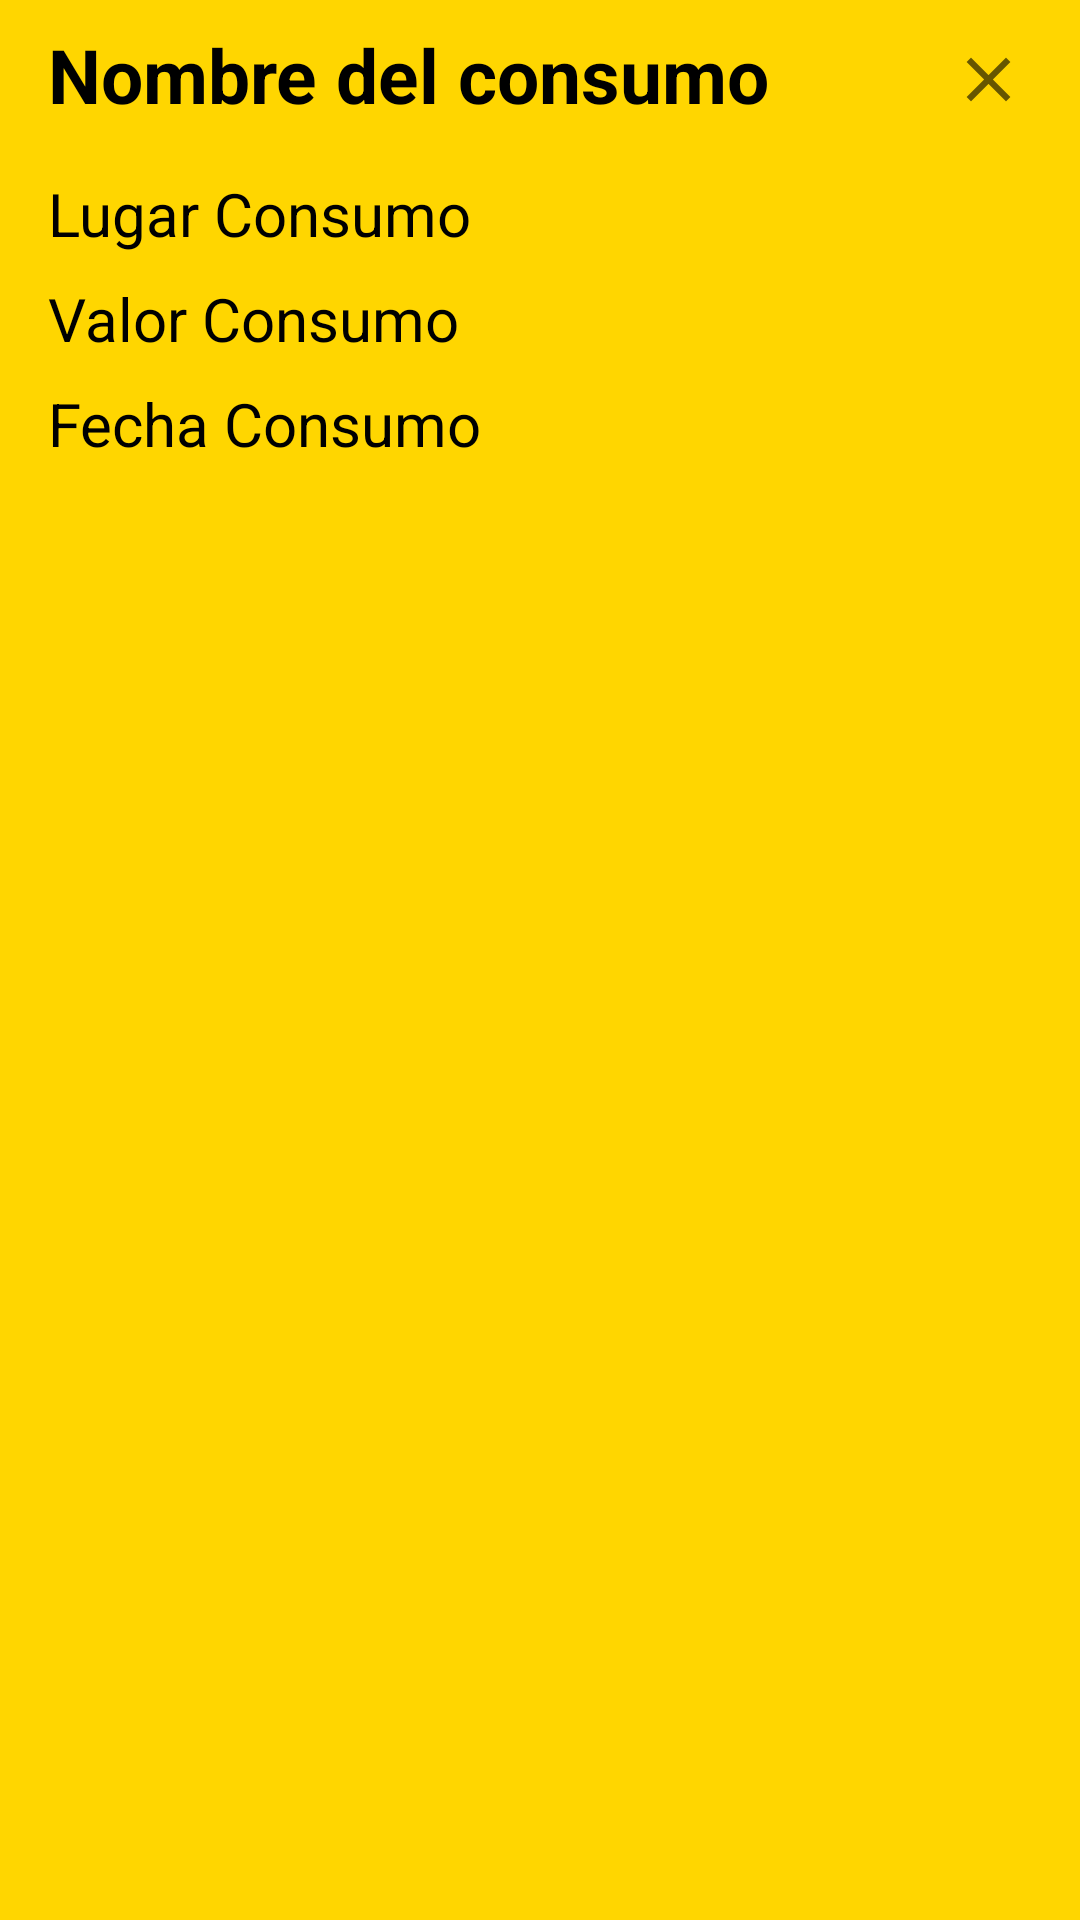

Named icons in this screenshot (1080px x 1920px) and their bounding boxes, (x1, y1, x2, y2):
close: (967, 58, 1010, 101)
